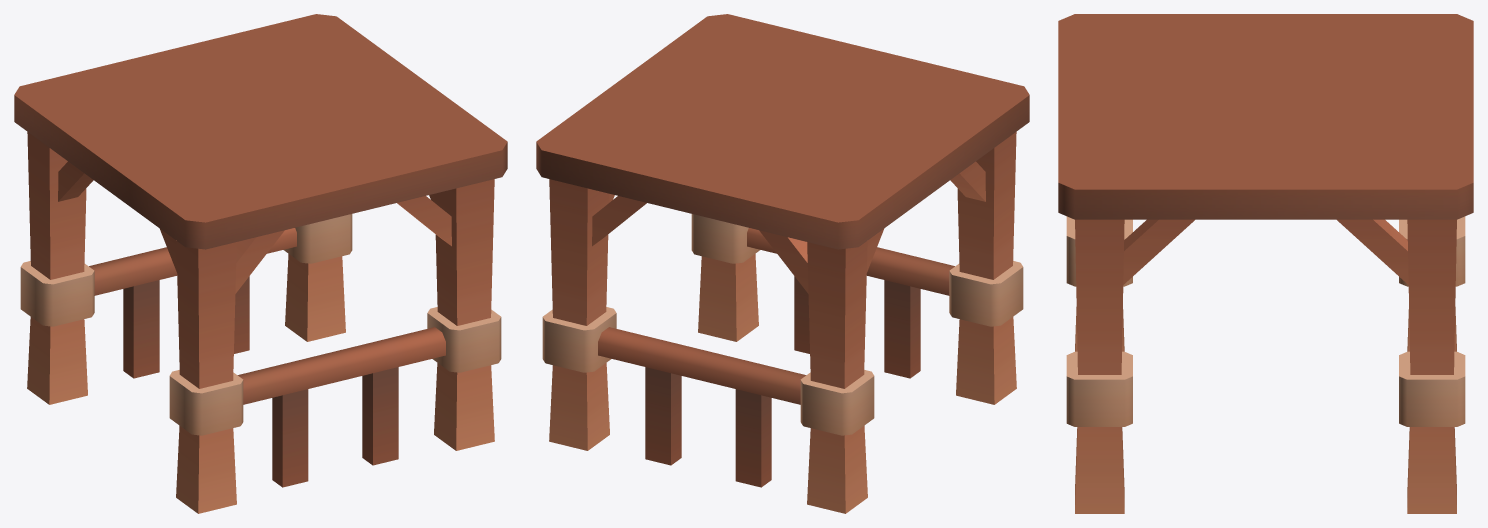
Rendered from structure-fence.glb.
3 views of the same model, side by side, from view 1: azimuth 30°, elevation 25°; view 2: azimuth 150°, elevation 25°; view 3: azimuth 270°, elevation 25° (orthographic). The views are drawn at different scales.
Visible parts, largest first — view 1: structure-fence; view 2: structure-fence; view 3: structure-fence.
Boxes of the visible parts, x1=… form: structure-fence: x1=14, y1=14, x2=507, y2=513; structure-fence: x1=536, y1=14, x2=1029, y2=513; structure-fence: x1=1058, y1=14, x2=1473, y2=513.
Bounding box in the file's own units: 2.5 × 2.2 × 2.5.
1 material, 1 textured.
